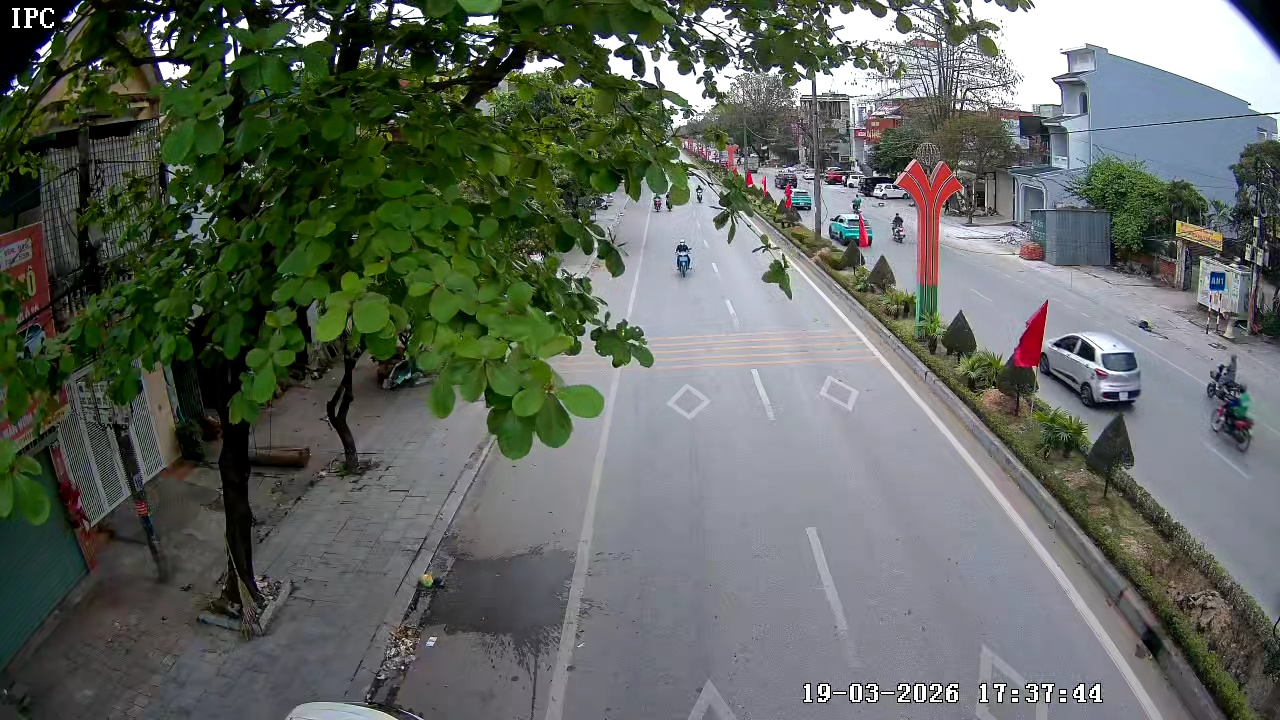car: (1040, 330, 1143, 408)
motorbike: (1217, 379, 1257, 453), (1205, 356, 1243, 402), (673, 238, 694, 278), (891, 211, 906, 243)
